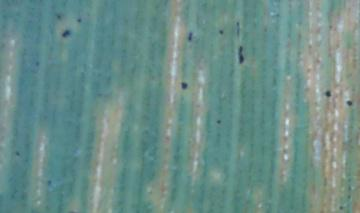tarspot: (237, 43, 245, 65), (60, 27, 72, 39), (234, 19, 241, 38), (343, 98, 355, 108), (323, 88, 332, 100), (185, 30, 194, 42), (178, 81, 188, 91), (75, 16, 83, 25), (34, 58, 41, 67), (218, 28, 225, 36), (13, 150, 20, 158), (45, 177, 53, 184), (215, 119, 222, 126), (337, 204, 344, 211), (347, 183, 353, 191), (56, 13, 62, 19), (346, 193, 351, 199)
